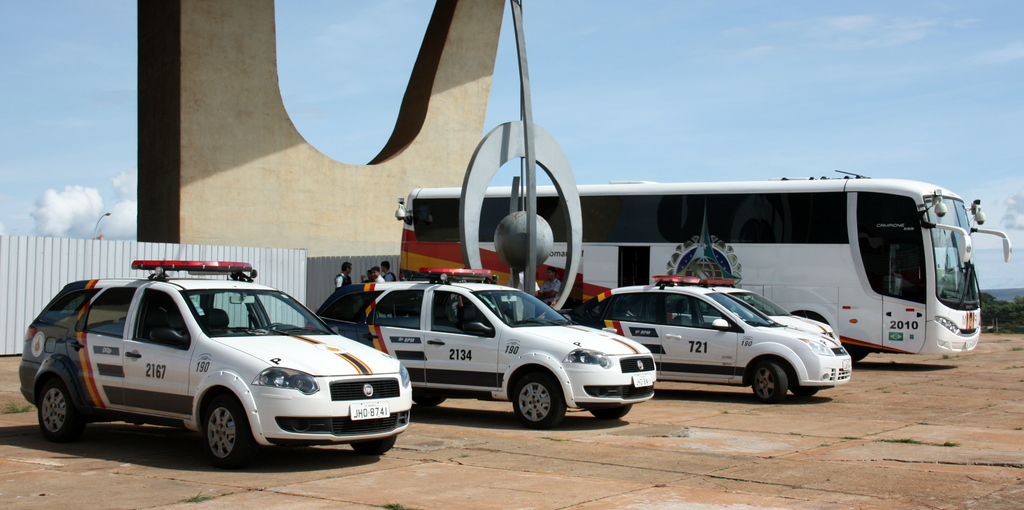car: (19, 247, 421, 471), (303, 261, 662, 432), (578, 273, 853, 399)
truck: (390, 162, 1011, 373)
